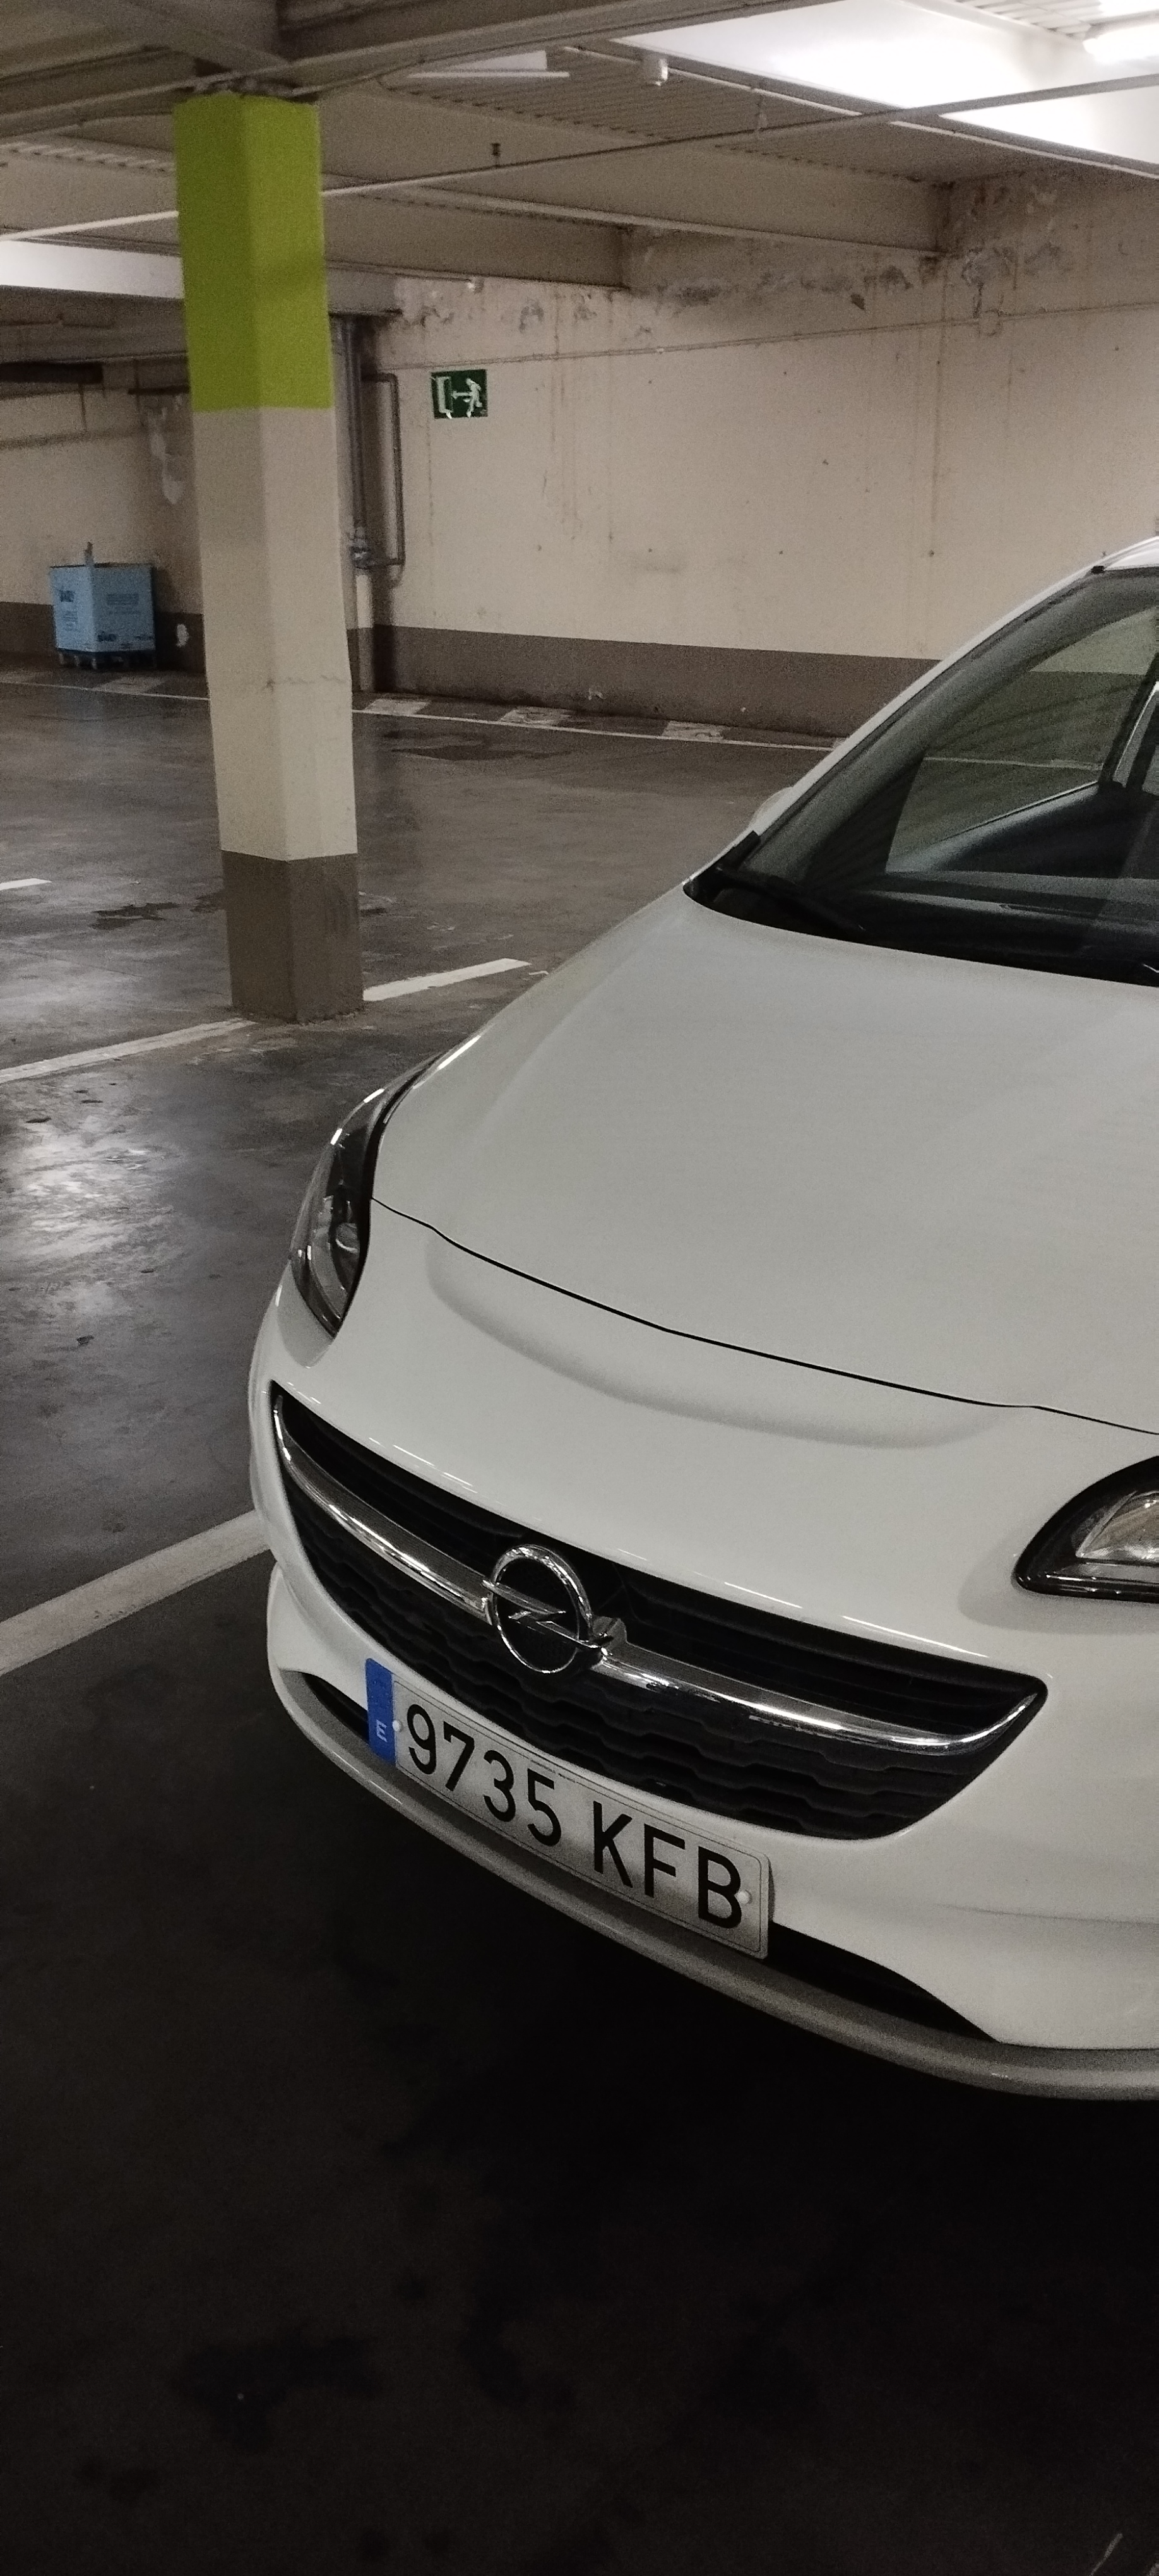Plate: (376, 1672, 822, 1781)
